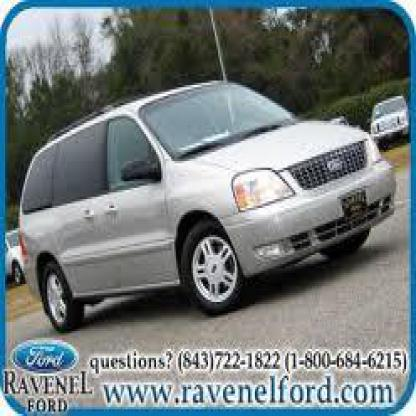Vehicle: (15, 76, 403, 336)
